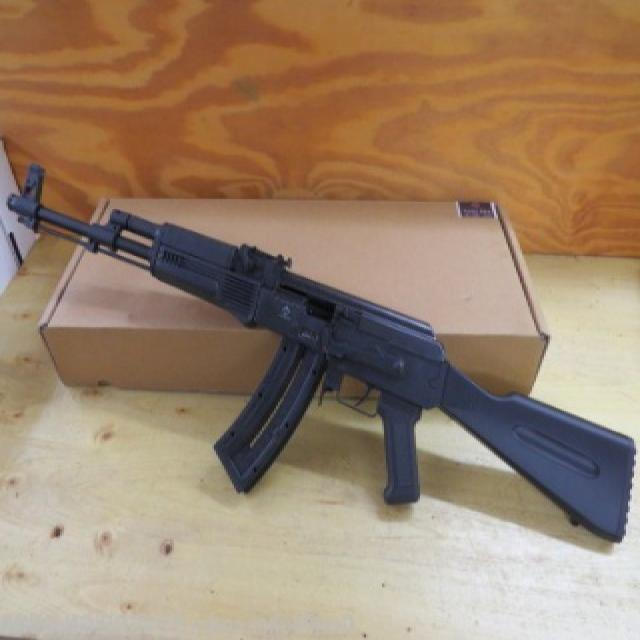rifle: (11, 164, 637, 546)
